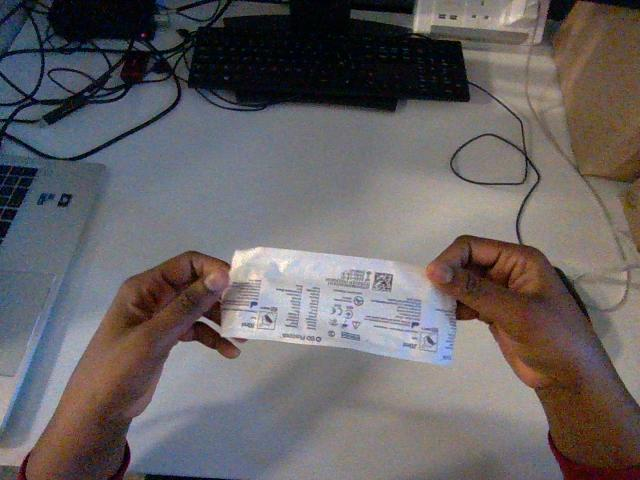syringe: (221, 247, 455, 364)
